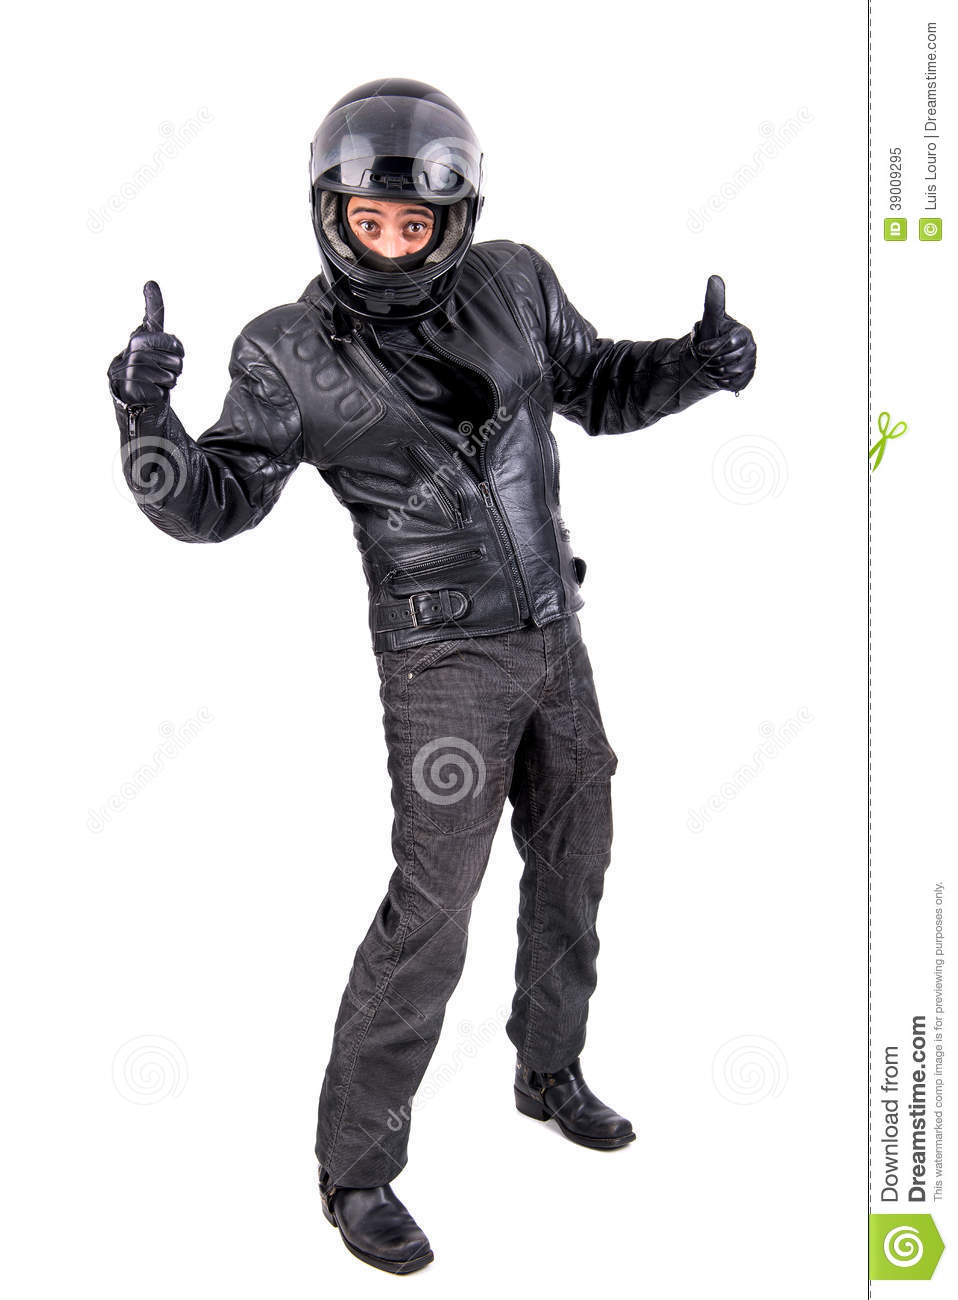helmet: (297, 91, 503, 299)
